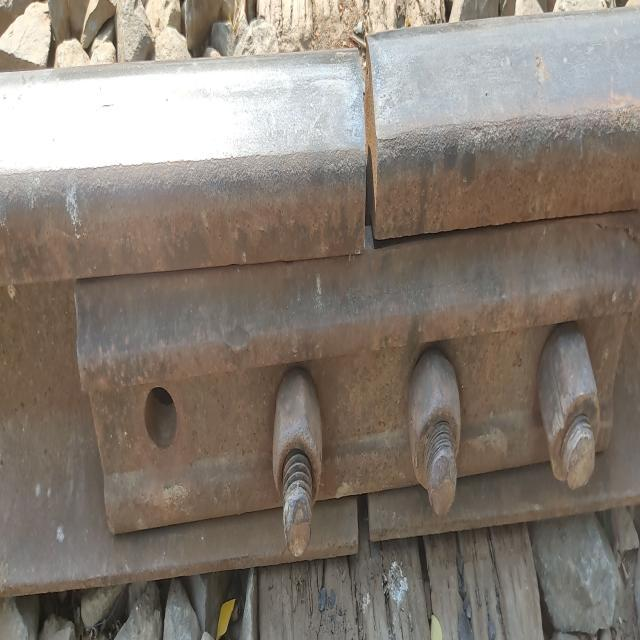railway_join_bar_defects_low: (346, 37, 394, 535)
